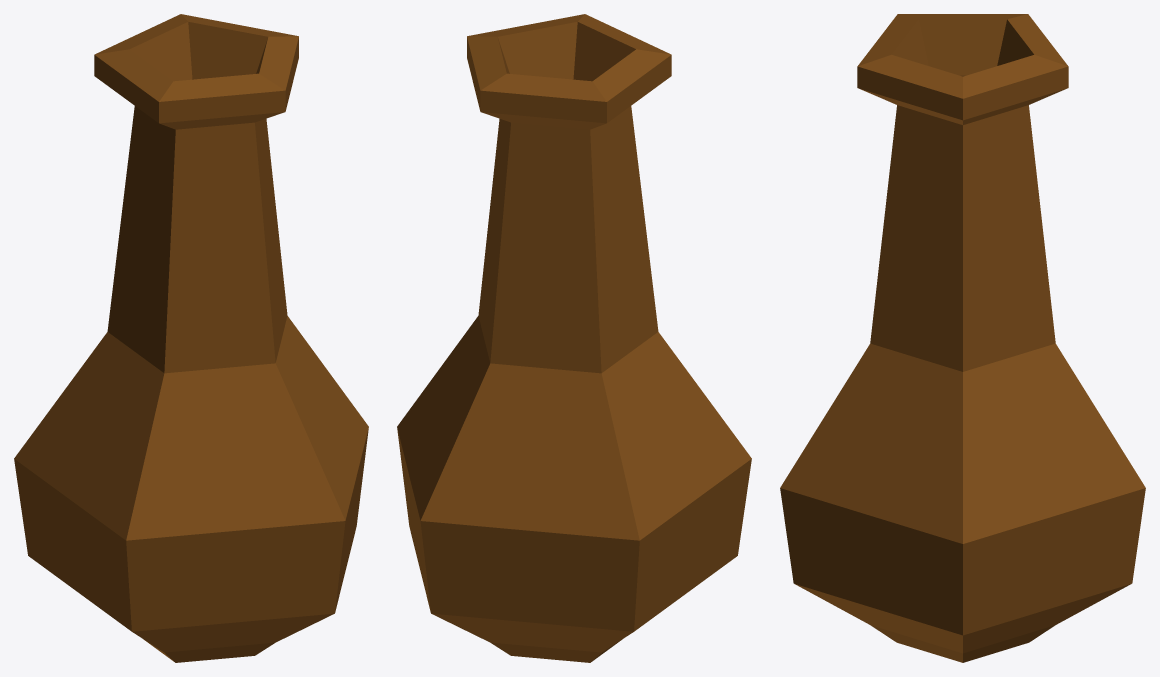
Rendered from SM_pottery_02.fbx.
3 views of the same model, side by side, from view 1: azimuth 30°, elevation 25°; view 2: azimuth 150°, elevation 25°; view 3: azimuth 270°, elevation 25° (orthographic).
Visible parts, largest first — view 1: Cylinder031; view 2: Cylinder031; view 3: Cylinder031.
Boxes of the visible parts, x1=… form: Cylinder031: x1=14, y1=14, x2=368, y2=662; Cylinder031: x1=397, y1=14, x2=751, y2=662; Cylinder031: x1=780, y1=14, x2=1145, y2=662.
Bounding box in the file's own units: 16.19 × 30.23 × 17.03.
